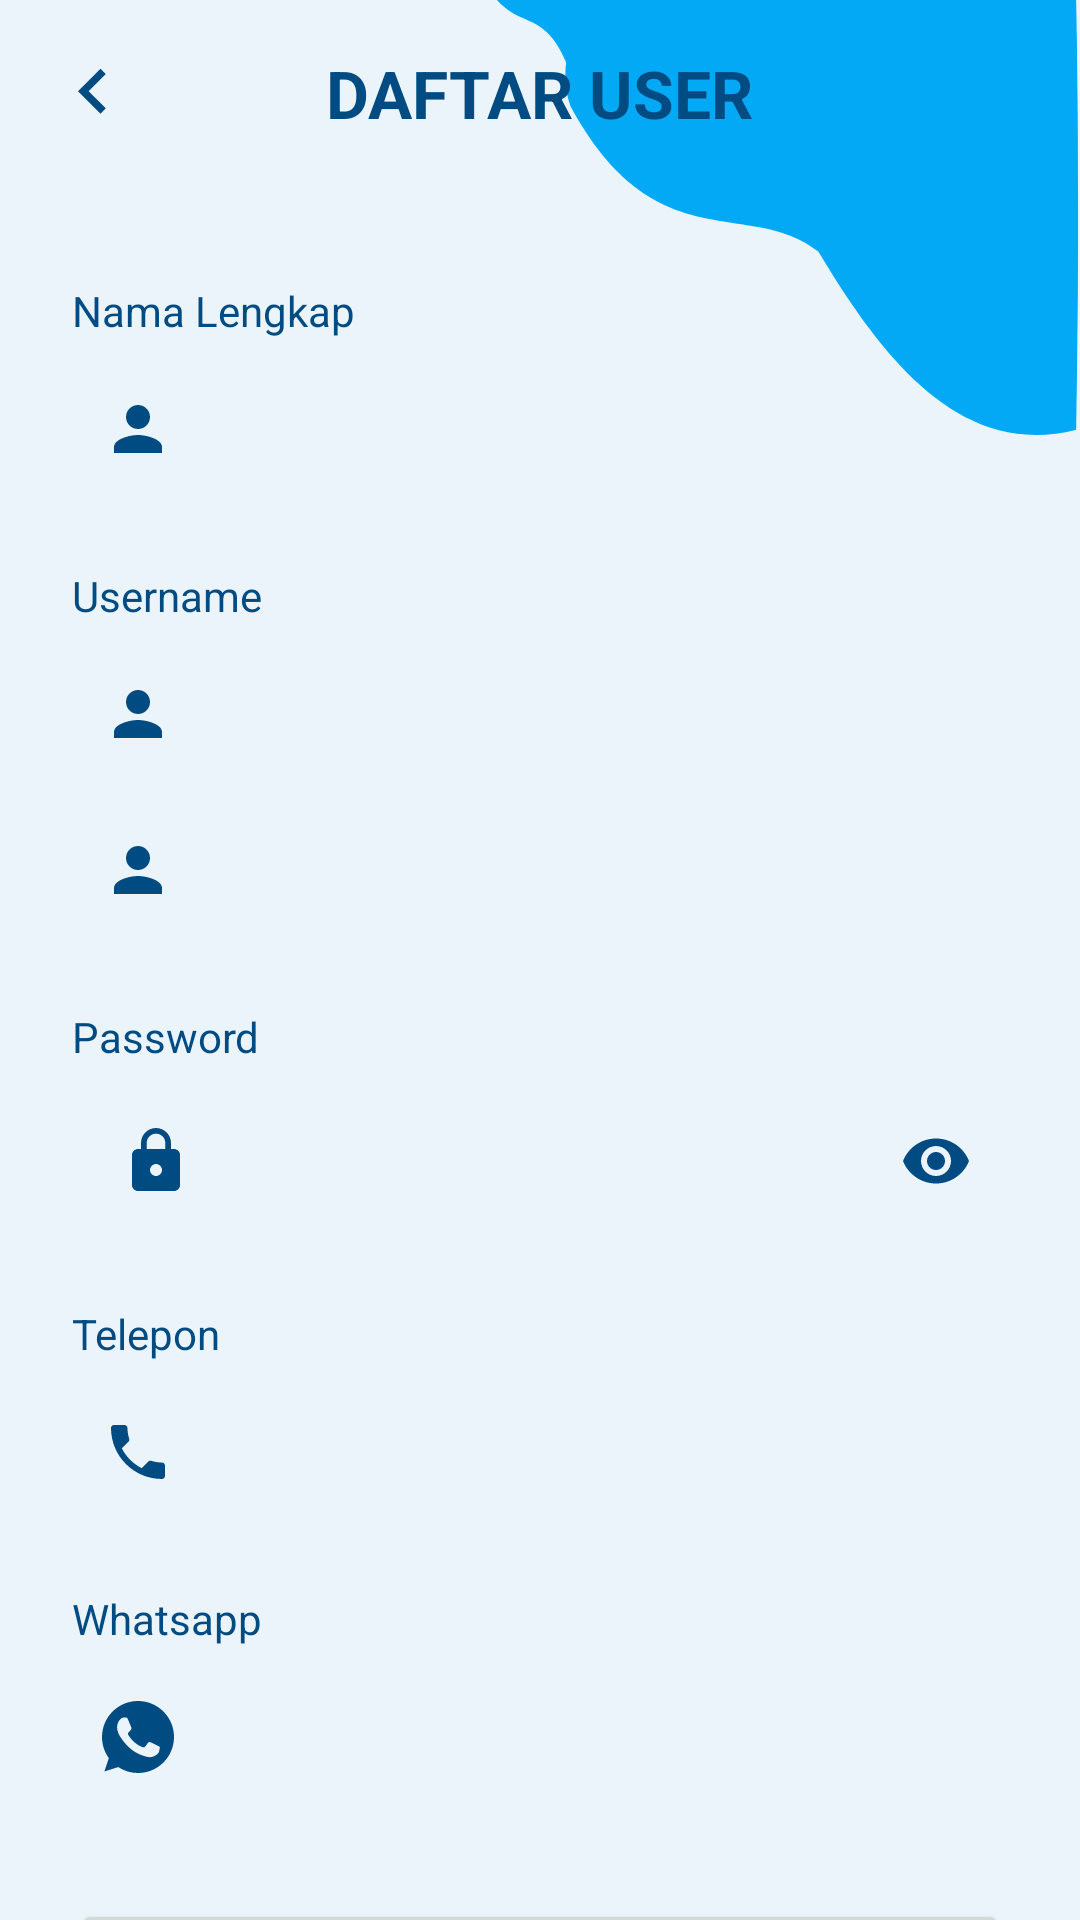

Where icons sit on this 1080x1920 app screen, as (x1, y1, x2, y2):
keyboard arrow left: (78, 69, 106, 114)
